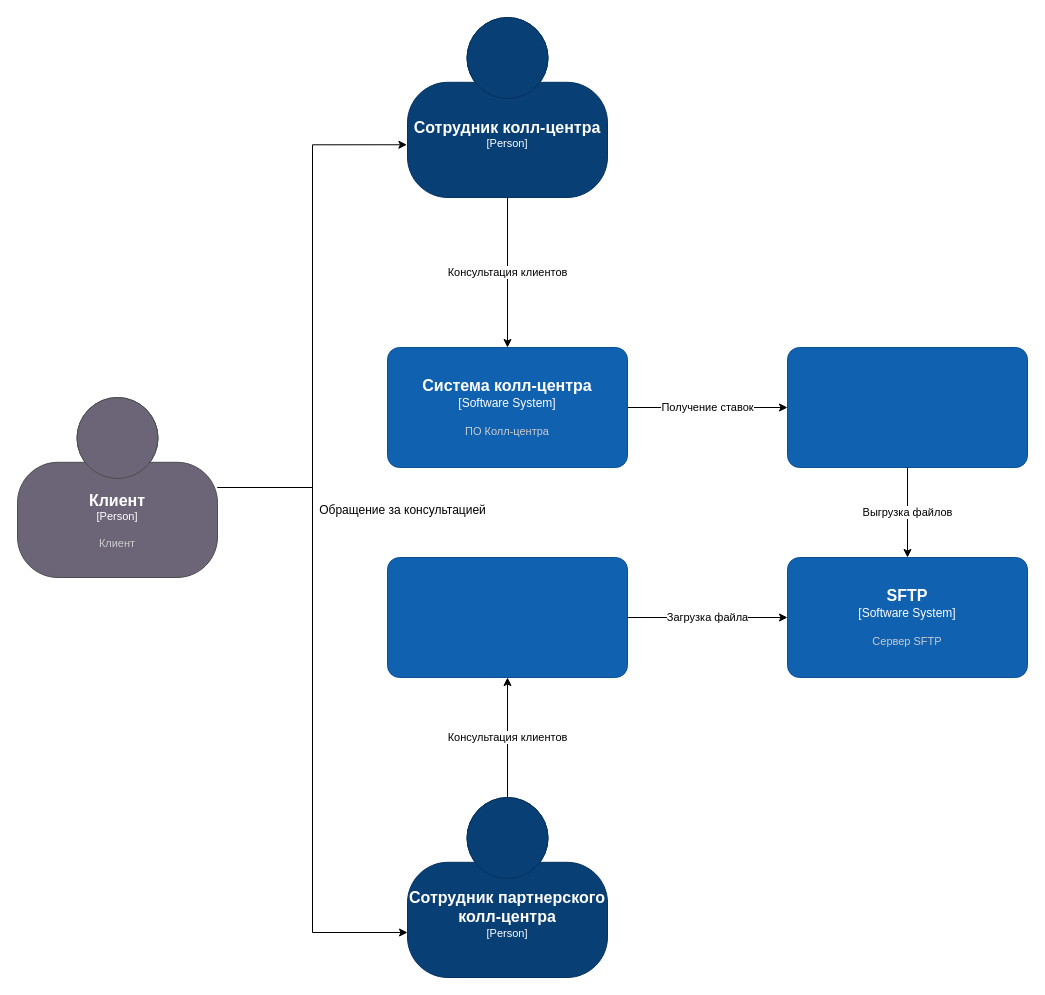
Image size: 1045x995. Some labels were removed from this diagram. The shapes that lost their labels are listed below. From the top down, each one's centre as x and y in pixels, then its label:
At (907,407): "АБС [Software System] Автоматизированная банковская система (АБС)".
At (507,617): "Система партнерского колл-центра [Software System] ПО партнерского Колл-центра".
